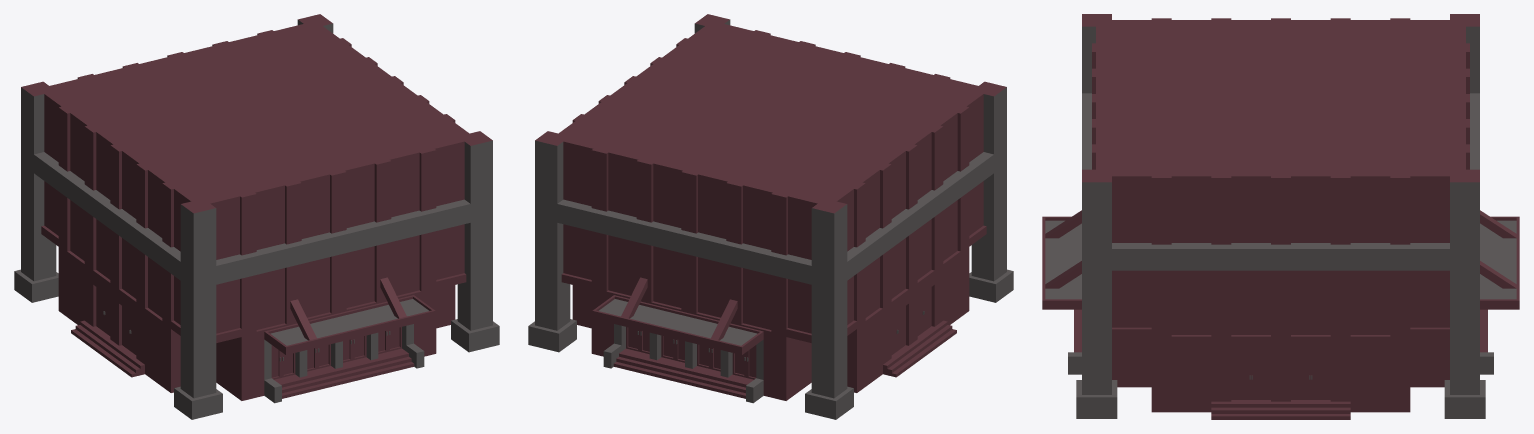
The model's file is skyscraper-part-bottom.fbx.
The picture shows the model from 3 angles, left to right: view 1: azimuth 30°, elevation 25°; view 2: azimuth 150°, elevation 25°; view 3: azimuth 270°, elevation 25°; orthographic projection. The views are drawn at different scales.
Visible parts, largest first — view 1: skyscraper-part-bottom; view 2: skyscraper-part-bottom; view 3: skyscraper-part-bottom.
Part boxes in pixels (box(x1,y1,x2,y2)): skyscraper-part-bottom: box(14, 14, 499, 419); skyscraper-part-bottom: box(528, 14, 1013, 419); skyscraper-part-bottom: box(1042, 14, 1519, 419).
Bounding box in the file's own units: 20.8 × 13 × 24.
